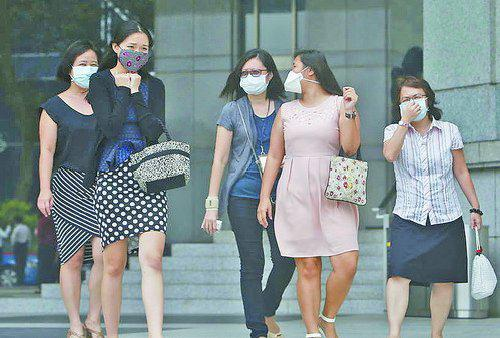OK: (71, 56, 103, 88), (120, 42, 152, 71), (286, 63, 316, 91), (403, 91, 428, 123), (242, 68, 270, 94)
